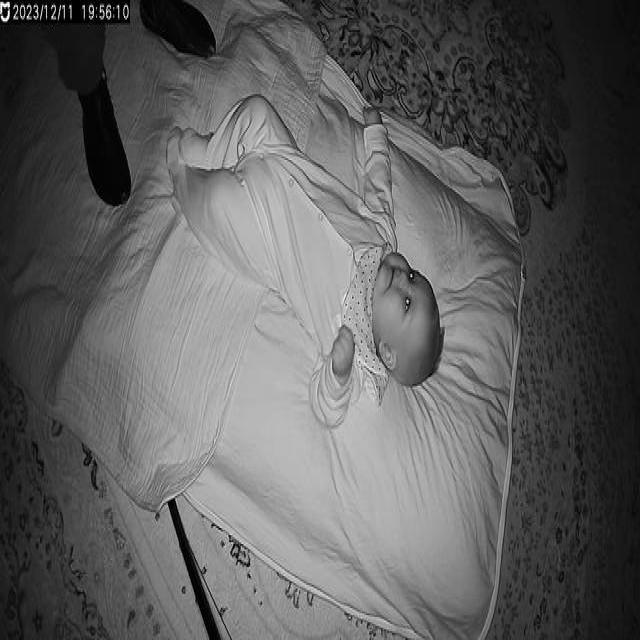baby: (165, 94, 444, 434)
